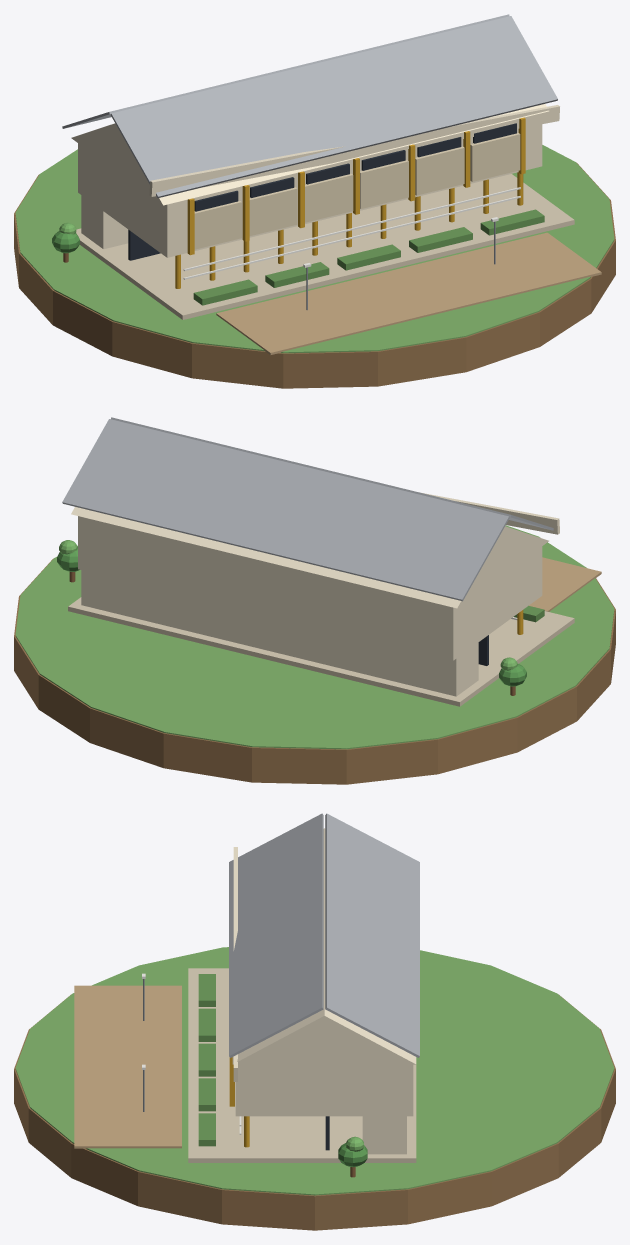
The model's file is auditorium.glb.
The picture shows the model from 3 angles, top to bottom: view 1: azimuth 30°, elevation 25°; view 2: azimuth 150°, elevation 25°; view 3: azimuth 270°, elevation 25°; orthographic projection.
Parts seen in each view (by area): view 1: auditorium; view 2: auditorium; view 3: auditorium.
Part boxes in pixels (x1=…): auditorium: x1=14, y1=14, x2=615, y2=388; auditorium: x1=14, y1=417, x2=615, y2=784; auditorium: x1=14, y1=813, x2=615, y2=1230.
Bounding box in the file's own units: 19 × 6.72 × 19.
